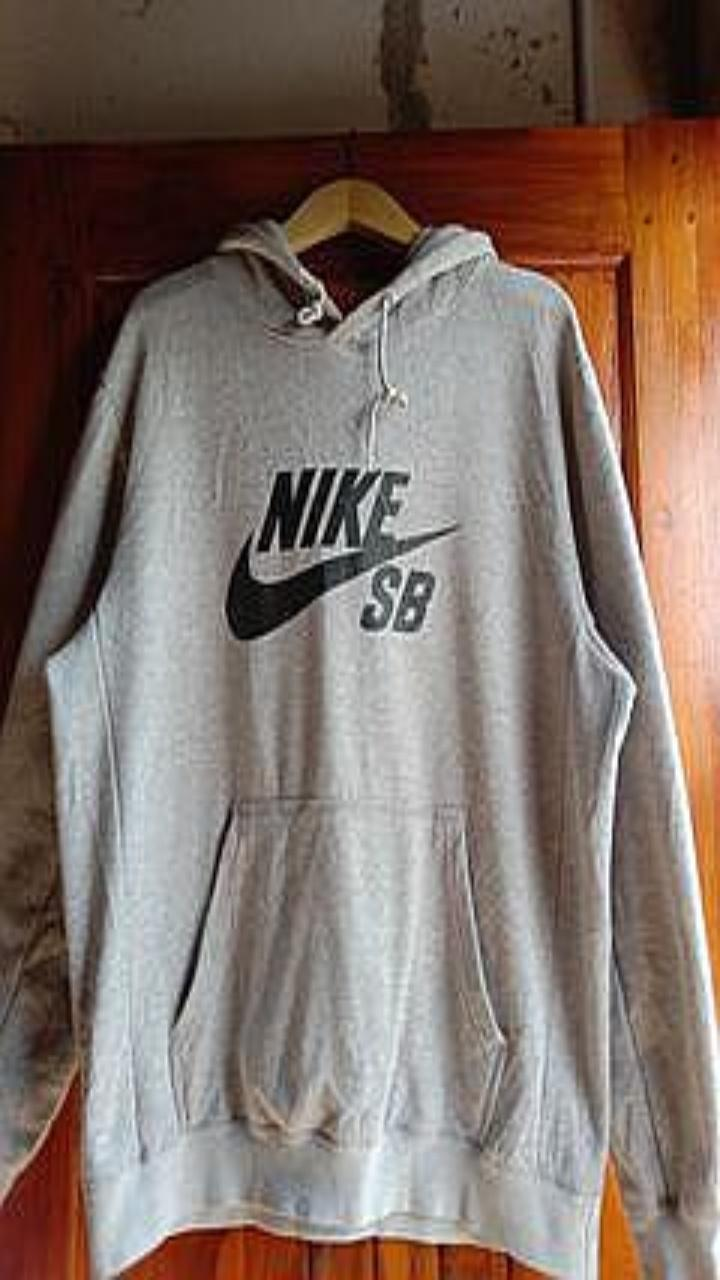Hoodie: (0, 218, 719, 1279)
